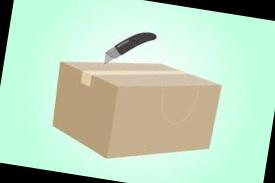Kertas: (52, 61, 219, 156)
